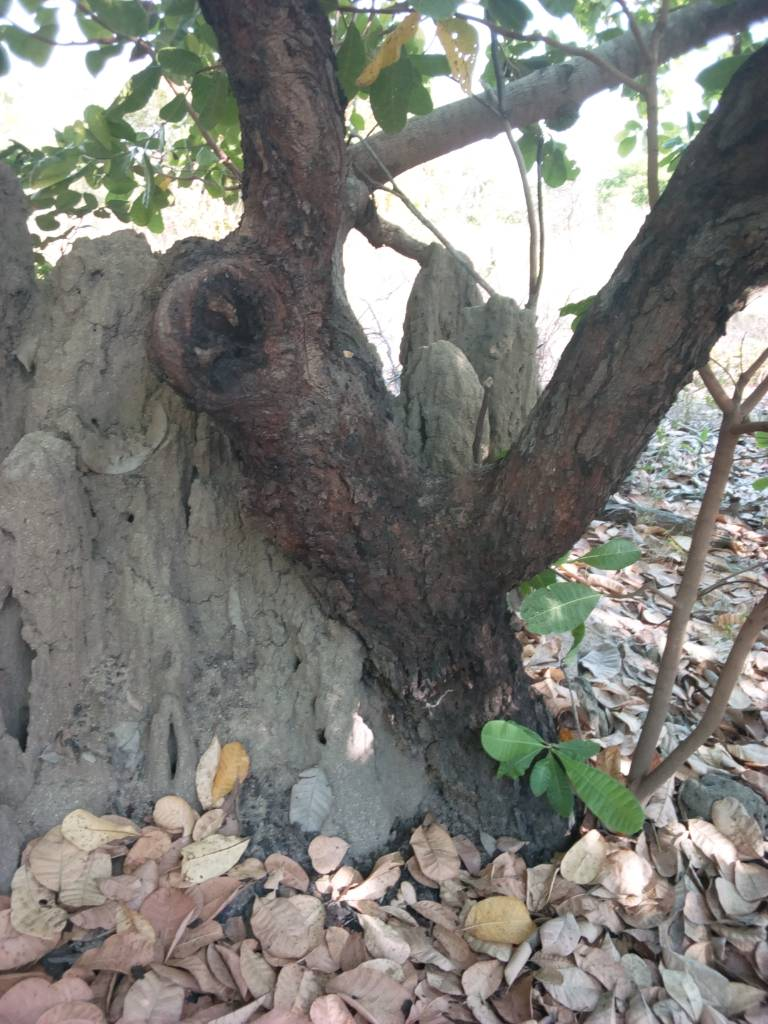Termites: (7, 222, 200, 835), (210, 563, 400, 836), (410, 247, 532, 453)
